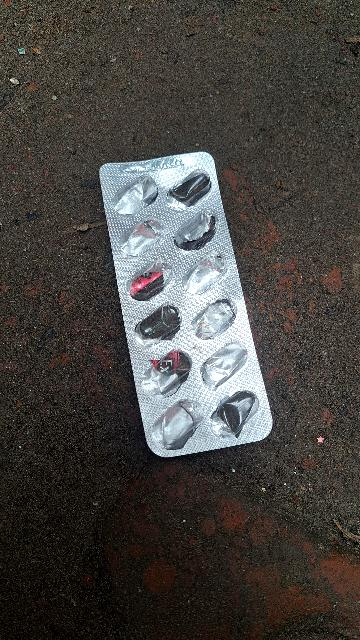medicine: (88, 121, 295, 462)
